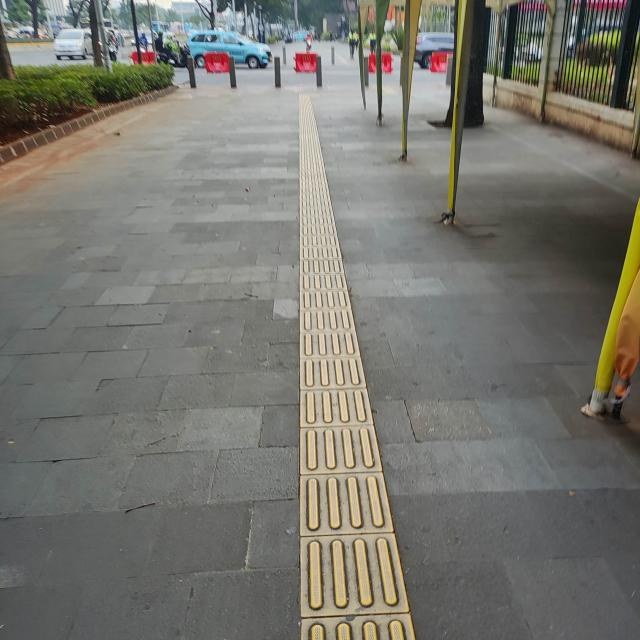lurus: (286, 100, 385, 640)
